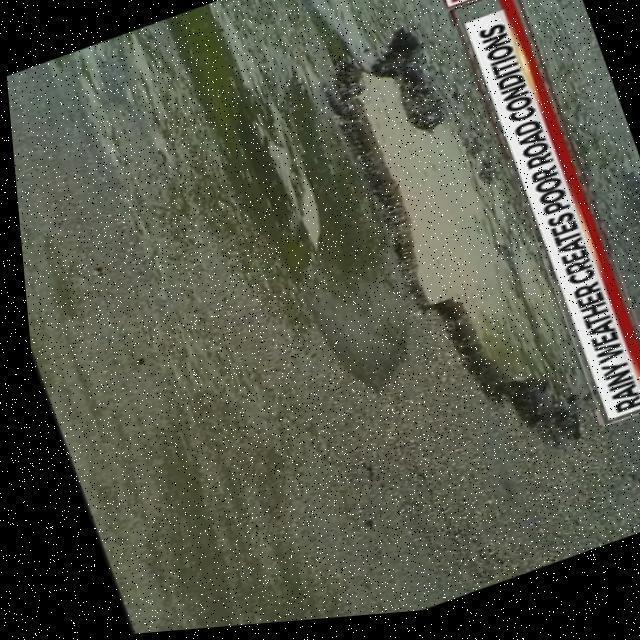Pothole: (330, 22, 588, 448)
